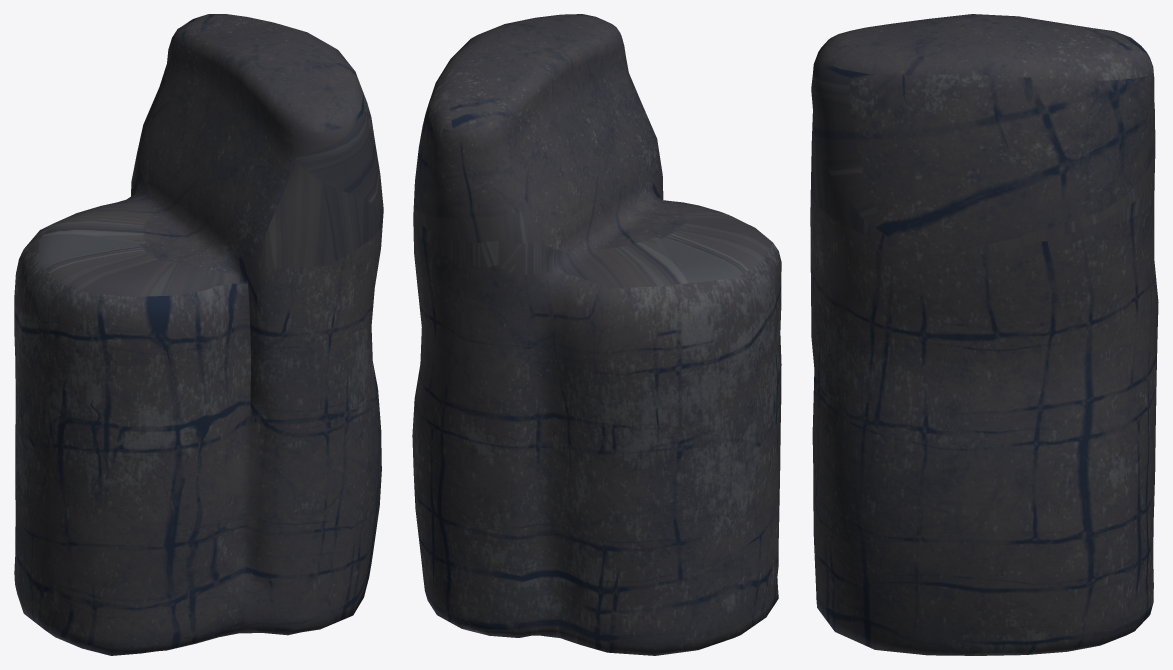
The model's file is obstacle_petit3.obj.
The picture shows the model from 3 angles, left to right: view 1: azimuth 30°, elevation 25°; view 2: azimuth 150°, elevation 25°; view 3: azimuth 270°, elevation 25°; orthographic projection. The views are drawn at different scales.
Visible parts, largest first — view 1: obstacle_petit3:Group40257; view 2: obstacle_petit3:Group40257; view 3: obstacle_petit3:Group40257.
Part boxes in pixels (x1,y1,x2,y2): obstacle_petit3:Group40257: [14, 14, 383, 655]; obstacle_petit3:Group40257: [412, 14, 781, 655]; obstacle_petit3:Group40257: [810, 14, 1158, 655].
Bounding box in the file's own units: 785 × 1248 × 652.
1 material, 1 textured.
